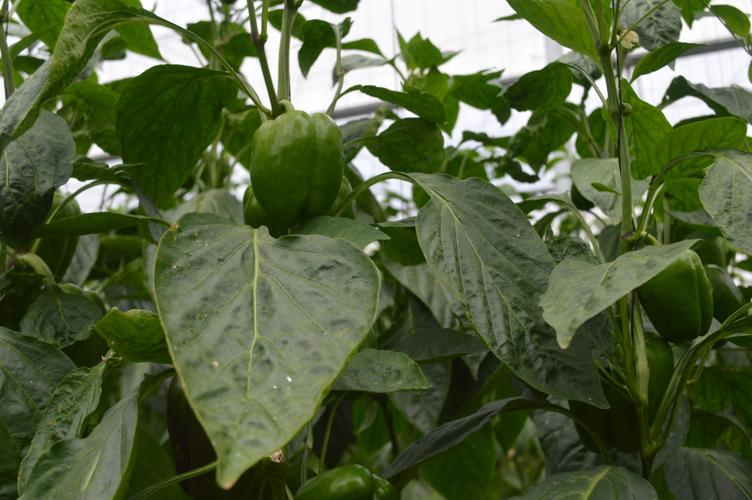BellPepper: (245, 111, 342, 222), (633, 247, 711, 342), (600, 334, 675, 419)
